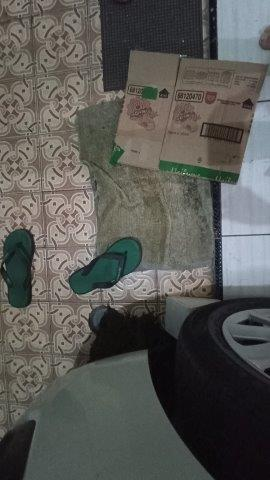kardus: (114, 50, 267, 184)
